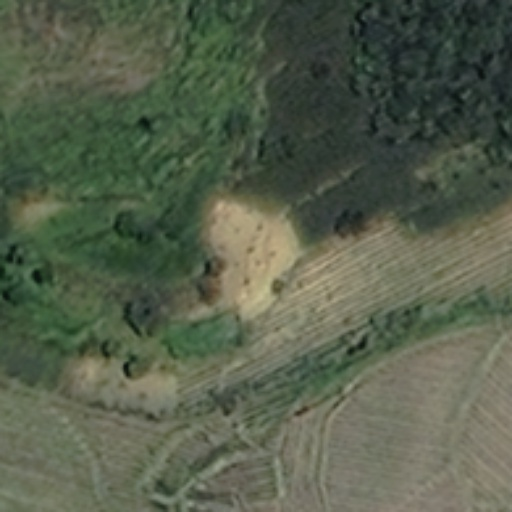landslide: (204, 195, 299, 319)
